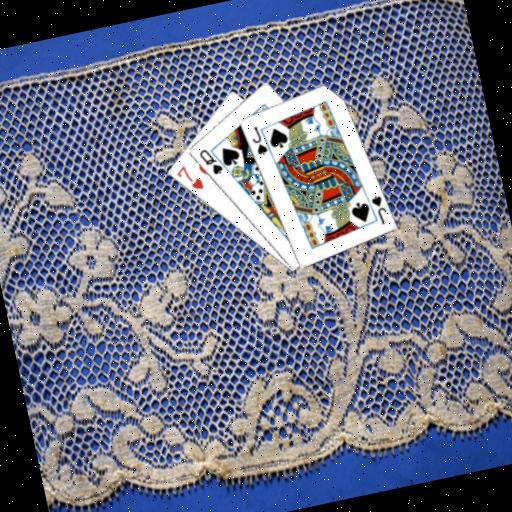7H: (172, 159, 205, 196)
JS: (245, 121, 269, 158), (367, 191, 391, 227)
QS: (195, 143, 225, 179)
